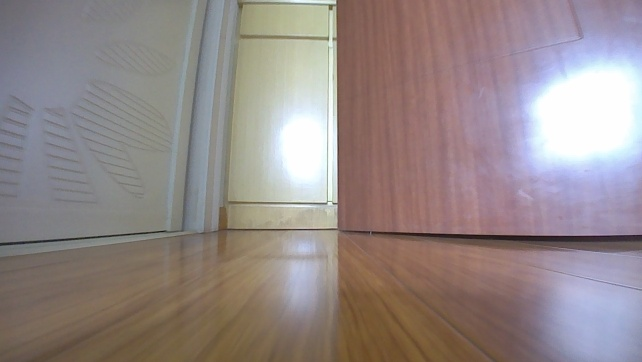door_anno: (331, 0, 641, 253)
